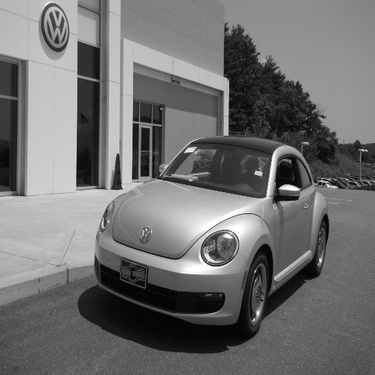car: (84, 128, 335, 348), (324, 175, 347, 192), (317, 177, 340, 190), (356, 173, 372, 189), (346, 178, 362, 192), (367, 176, 374, 189)
